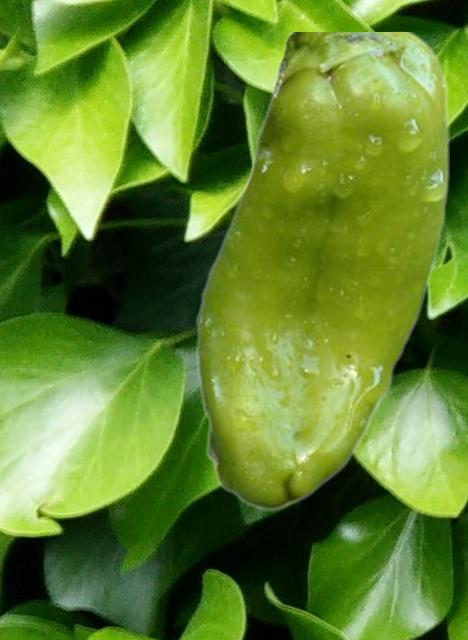green_chili: (195, 32, 448, 510)
